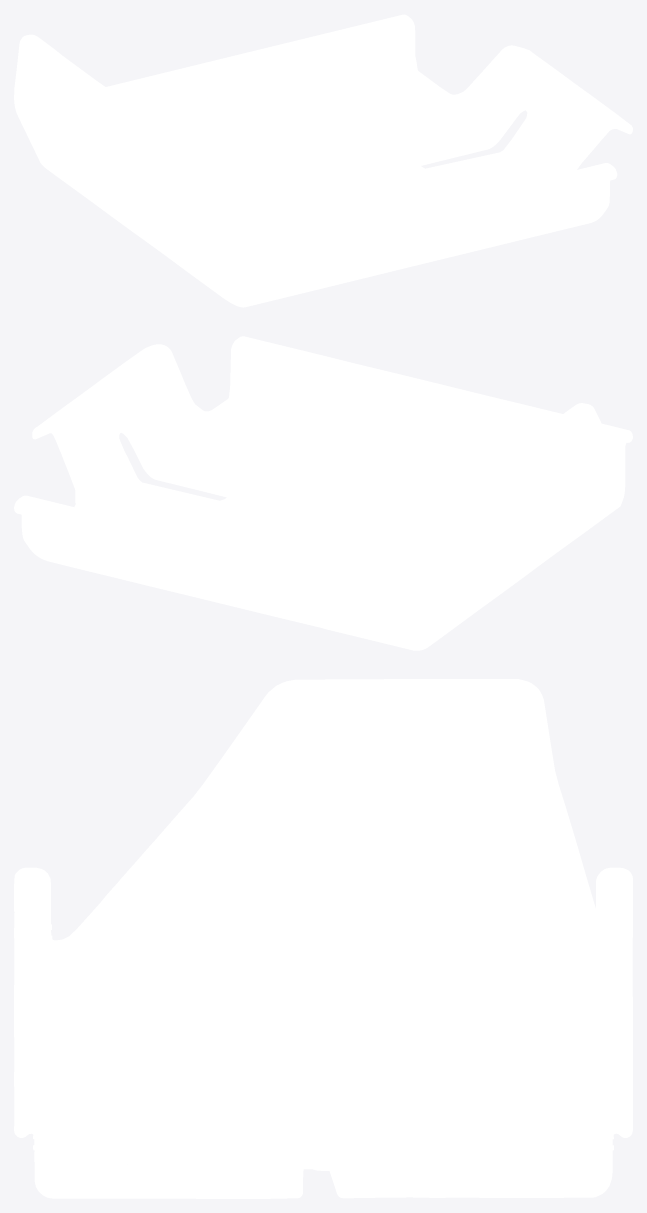
Rendered from skidplate.glb.
3 views of the same model, one above another, from view 1: azimuth 30°, elevation 25°; view 2: azimuth 150°, elevation 25°; view 3: azimuth 270°, elevation 25° (orthographic). The views are drawn at different scales.
Parts seen in each view (by area): view 1: Mesh_0; view 2: Mesh_0; view 3: Mesh_0.
Part boxes in pixels (<box>): Mesh_0: <box>14,14,632,307</box>; Mesh_0: <box>14,336,632,650</box>; Mesh_0: <box>14,679,632,1198</box>.
Bounding box in the file's own units: 1.9 × 0.6349 × 1.49.
Materials: 1 (1 with a texture image).
